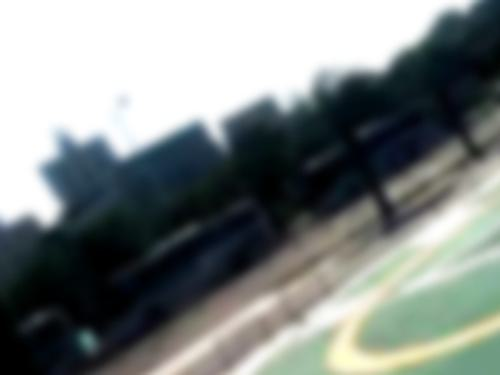Apron: (334, 180, 500, 375)
